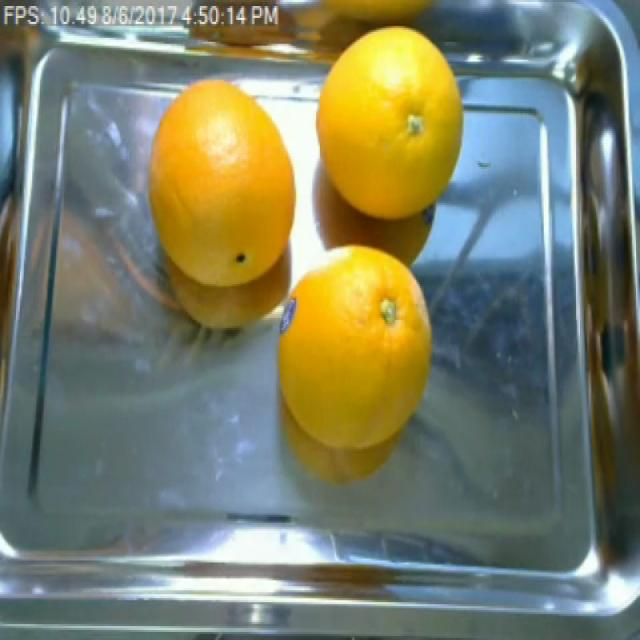Fruit: (133, 60, 310, 268), (266, 306, 438, 497)
